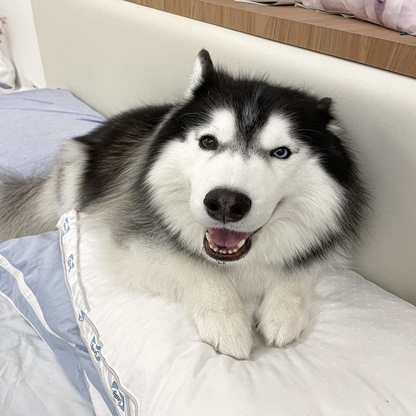husky: (3, 45, 376, 365)
